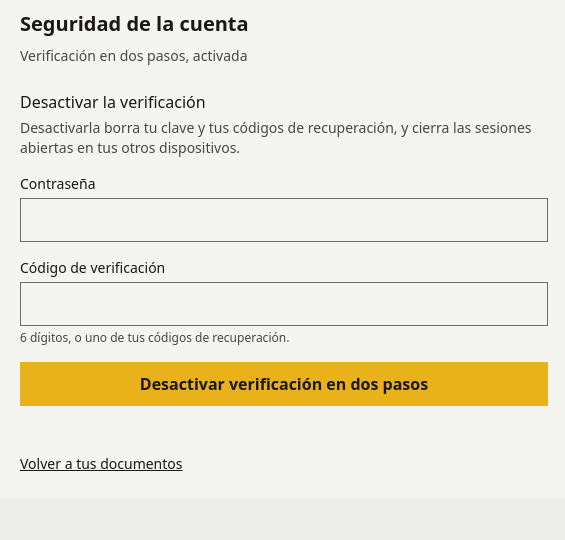
Test case: SecurityPage — baja de MFA (AC-19 desde la UI) › con la contraseña incorrecta muestra el error y MFA sigue activo
Type "mala" into the password field labelled "Contraseña".
click(284, 220); type("mala")  # box x1=20 y1=198 x2=548 y2=242
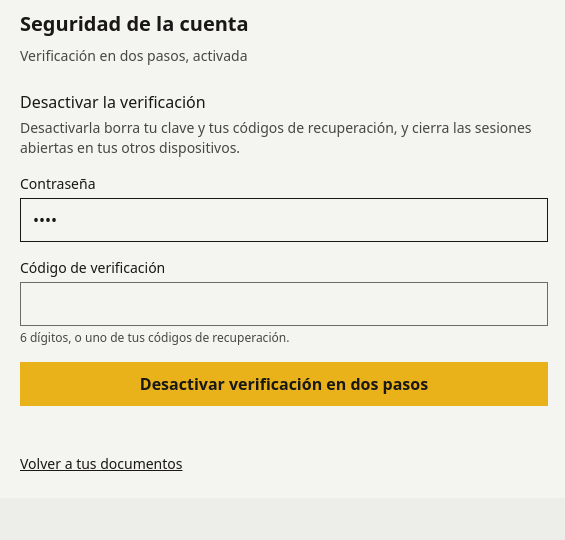
Type "123456" into the field labelled "Código de verificación".
click(284, 304); type("123456")  # box x1=20 y1=282 x2=548 y2=326
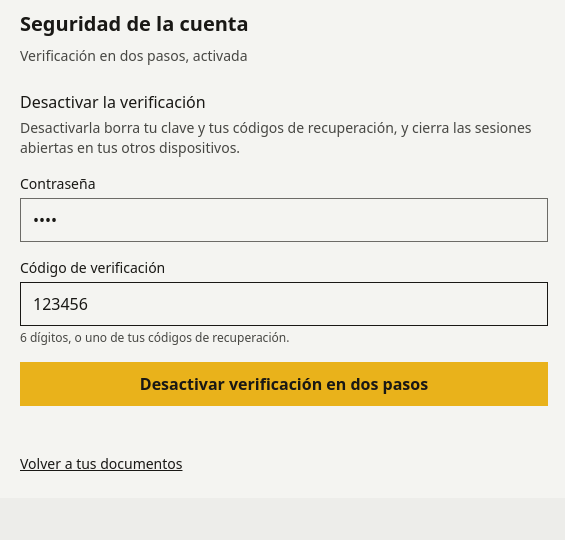
Click the button "Desactivar verificación en dos pasos".
click(284, 384)  # box x1=20 y1=362 x2=548 y2=406
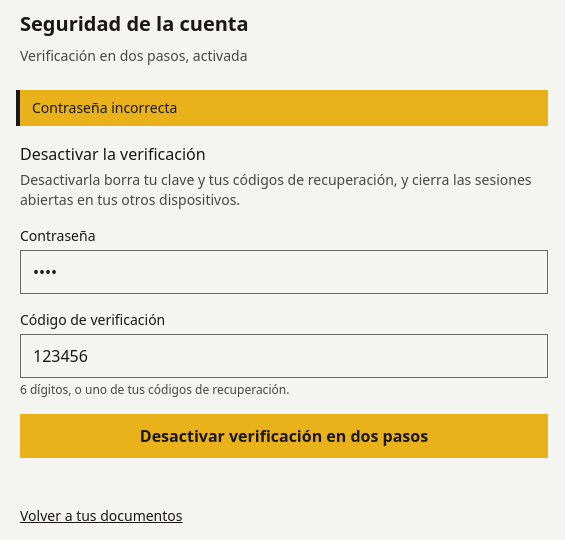
Expected: the message "Verificación en dos pasos, activada" is shown, x1=20 y1=46 x2=248 y2=65
Result: the message "Contraseña incorrecta" is shown at x1=20 y1=90 x2=548 y2=126
